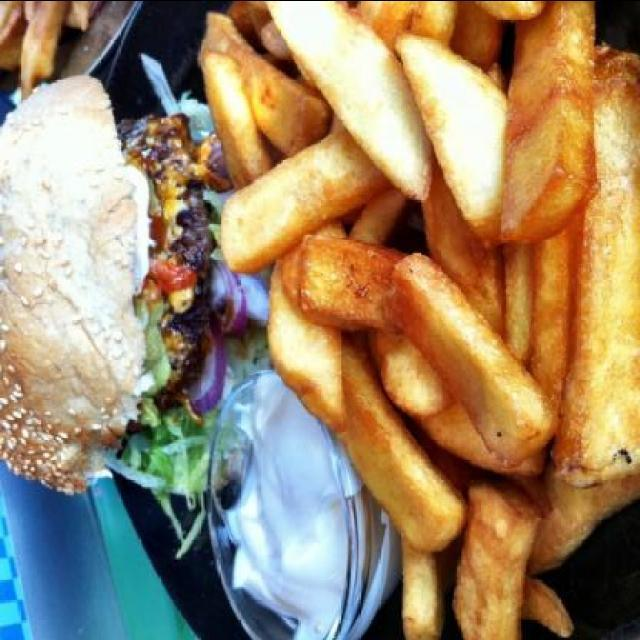Hamburger: (1, 52, 284, 562)
